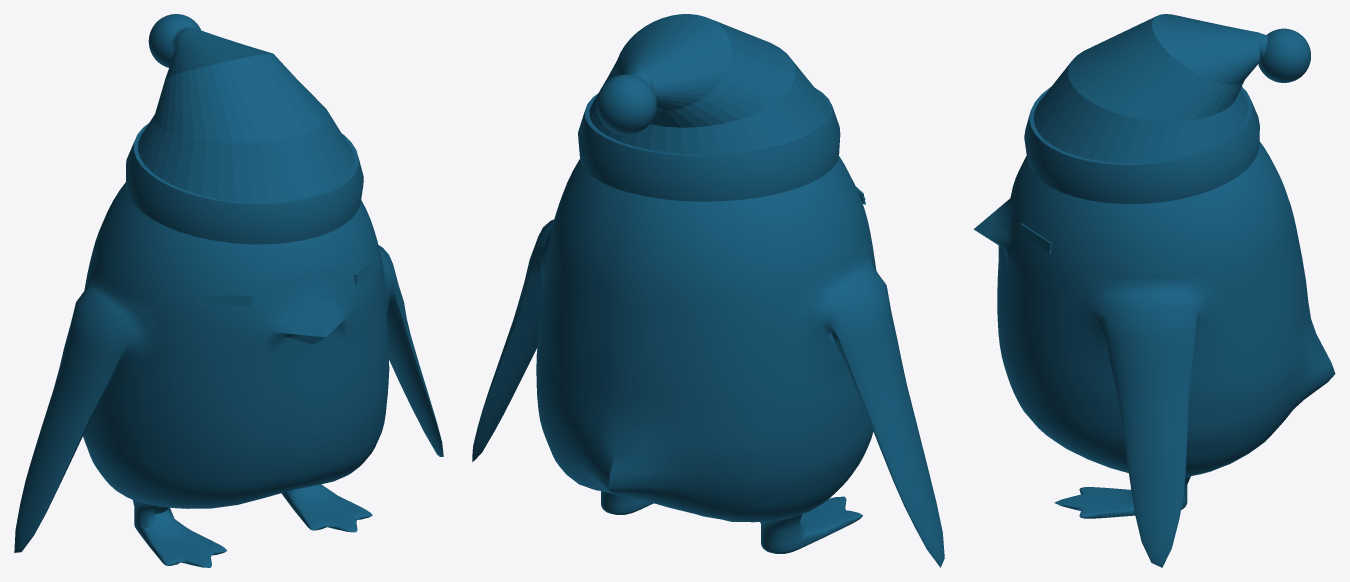
Rendered from penguin_blue_idle_41f.fbx.
The picture shows the model from 3 angles, left to right: view 1: azimuth 30°, elevation 25°; view 2: azimuth 150°, elevation 25°; view 3: azimuth 270°, elevation 25°; orthographic projection. The views are drawn at different scales.
Visible parts, largest first — view 1: ppp_41, bousi, ai; view 2: ppp_41, bousi; view 3: ppp_41, bousi.
Part boxes in pixels (box(x1,y1,x2,y2)): ppp_41: box(14, 182, 443, 567); bousi: box(126, 14, 363, 244); ai: box(196, 256, 379, 305); ppp_41: box(472, 156, 944, 567); bousi: box(578, 14, 840, 201); ppp_41: box(973, 141, 1335, 567); bousi: box(1024, 14, 1310, 203).
Size of the model in its own units: 19.6 by 20.12 by 14.61.
Materials: 1 (1 with a texture image).
